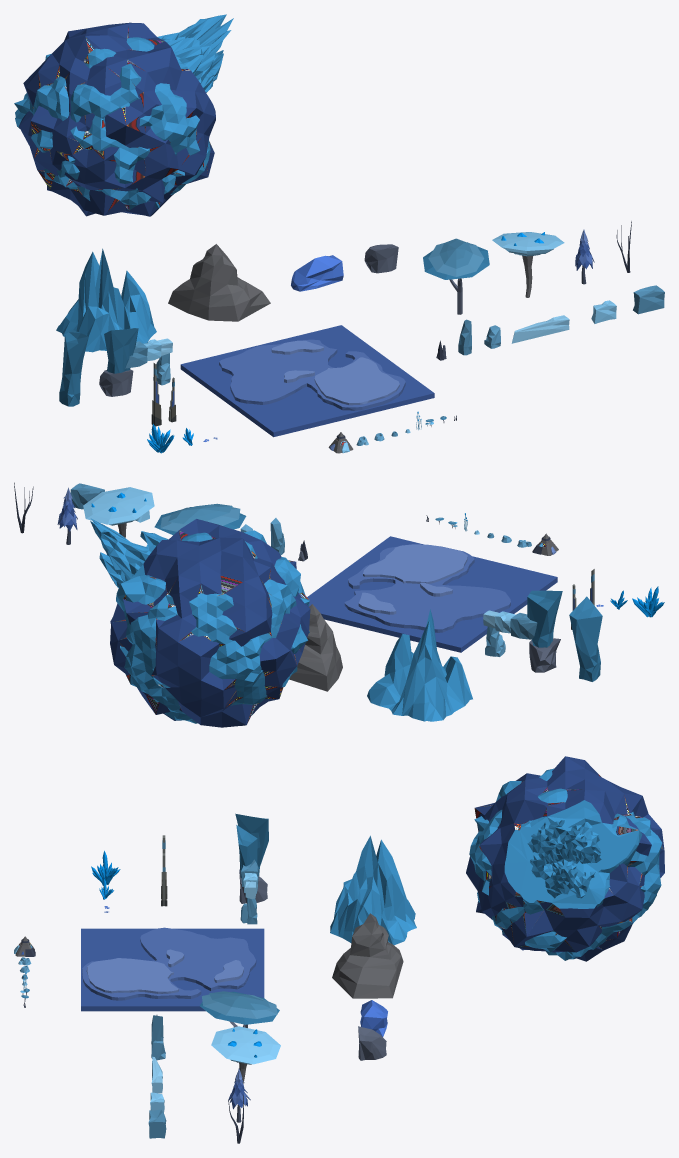
Rendered from Free Demo of Low Poly Space Alien Worlds 3D Asset Pack.obj.
The picture shows the model from 3 angles, top to bottom: view 1: azimuth 30°, elevation 25°; view 2: azimuth 150°, elevation 25°; view 3: azimuth 270°, elevation 25°; orthographic projection. The views are drawn at different scales.
Parts seen in each view (by area): view 1: SP_Planet, SP_Ground01, SP_Ground02, SP_Mountain01, SP_Mountain02, SP_Rock08, SP_Ground05, SP_Tree01, SP_Rock07, SP_Tree02, SP_Mountain03, SP_Rock06 (+3 smaller); view 2: SP_Planet, SP_Ground01, SP_Mountain01, SP_Ground02, SP_Rock08, SP_Ground05, SP_Mountain02, SP_Tree02, SP_Rock07, SP_Tree01, SP_Tree03, SP_Rock05 (+3 smaller); view 3: SP_Planet, SP_Ground01, SP_Ground02, SP_Mountain01, SP_Mountain02, SP_Ground05, SP_Tree02, SP_Tree01, SP_Rock08, SP_Rock07, SP_Rock06, SP_Mountain03.
Part boxes in pixels (x1,y1,x2,y2): SP_Planet: (14, 14, 233, 216); SP_Ground01: (180, 325, 434, 437); SP_Ground02: (219, 339, 405, 410); SP_Mountain01: (56, 248, 156, 352); SP_Mountain02: (168, 244, 270, 321); SP_Rock08: (99, 328, 172, 396); SP_Ground05: (314, 357, 399, 405); SP_Tree01: (423, 238, 489, 314); SP_Rock07: (59, 330, 88, 406); SP_Tree02: (492, 232, 564, 297); SP_Mountain03: (291, 255, 343, 291); SP_Rock06: (364, 244, 398, 273); SP_Planet: (90, 518, 310, 727); SP_Ground01: (307, 536, 557, 652); SP_Mountain01: (367, 609, 472, 721); SP_Ground02: (344, 546, 510, 632); SP_Rock08: (483, 590, 562, 672); SP_Ground05: (363, 544, 467, 583); SP_Mountain02: (289, 604, 342, 691); SP_Tree02: (83, 487, 154, 537); SP_Rock07: (569, 596, 602, 681); SP_Tree01: (154, 503, 246, 535); SP_Tree03: (57, 487, 77, 544); SP_Rock05: (70, 483, 104, 509); SP_Planet: (466, 756, 664, 961); SP_Ground01: (81, 928, 264, 1011); SP_Ground02: (82, 927, 256, 1000); SP_Mountain01: (330, 835, 416, 945); SP_Mountain02: (332, 913, 403, 998); SP_Ground05: (86, 958, 178, 993); SP_Tree02: (211, 1026, 280, 1083); SP_Tree01: (199, 991, 279, 1062); SP_Rock08: (236, 825, 267, 924); SP_Rock07: (235, 813, 268, 875); SP_Rock06: (358, 1026, 386, 1060); SP_Mountain03: (360, 1000, 387, 1036).
Bounding box in the file's own units: 3510 × 1232 × 3546.
